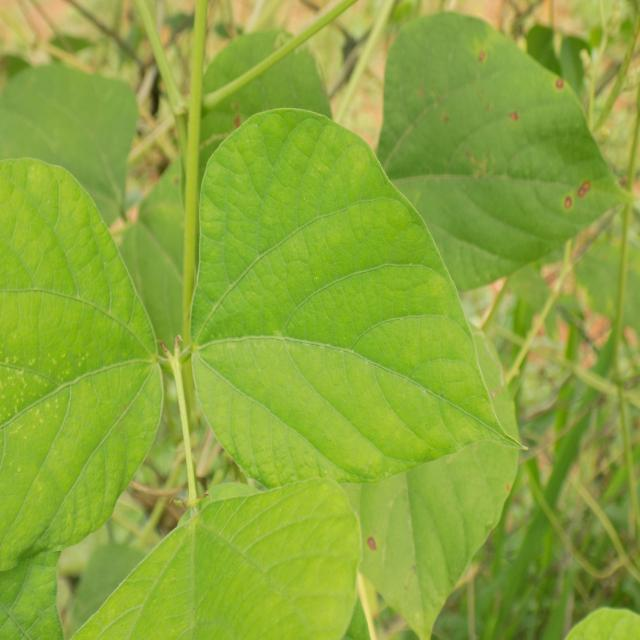Dolicos bean_cercospora leaf spot: (371, 5, 640, 288)
Dolicos bean_healthy: (193, 108, 518, 490), (323, 306, 514, 640)
